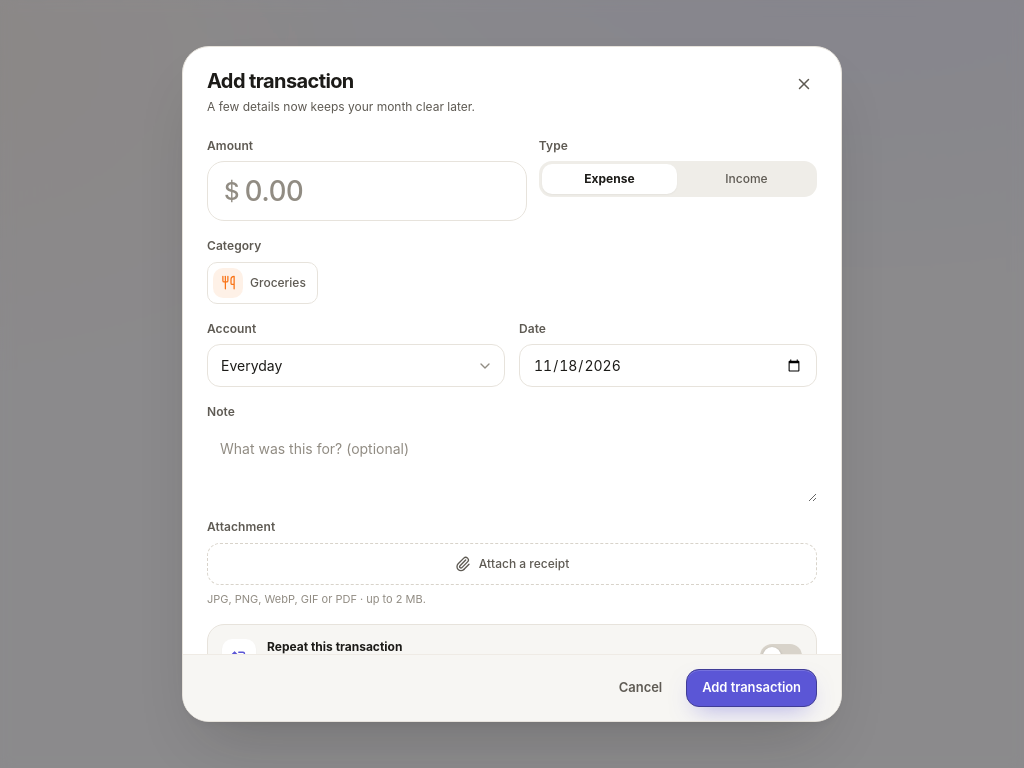
Test: TransactionFormModal › maps server field errors onto the matching inputs
This screenshot has width=1024, height=768.
Type "10" into the field named "Amount in USD" at coordinates (376, 191), box x1=242 y1=162 x2=510 y2=220
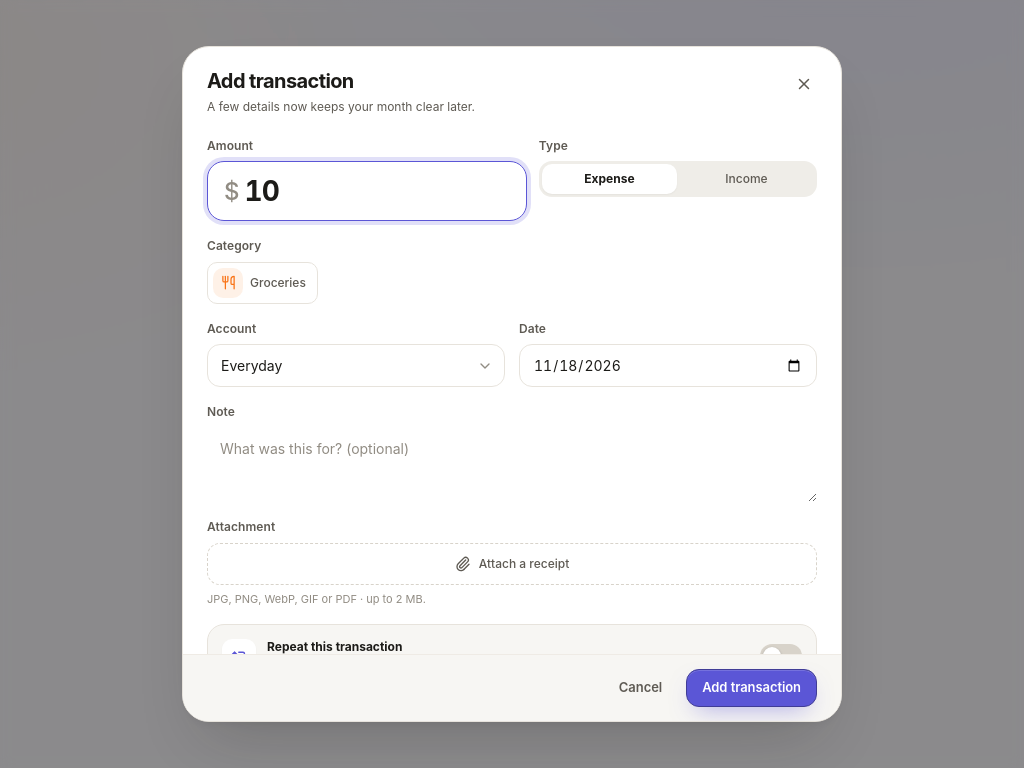
Click the radio button labelled "Groceries" at coordinates (262, 283), box x1=207 y1=262 x2=318 y2=304
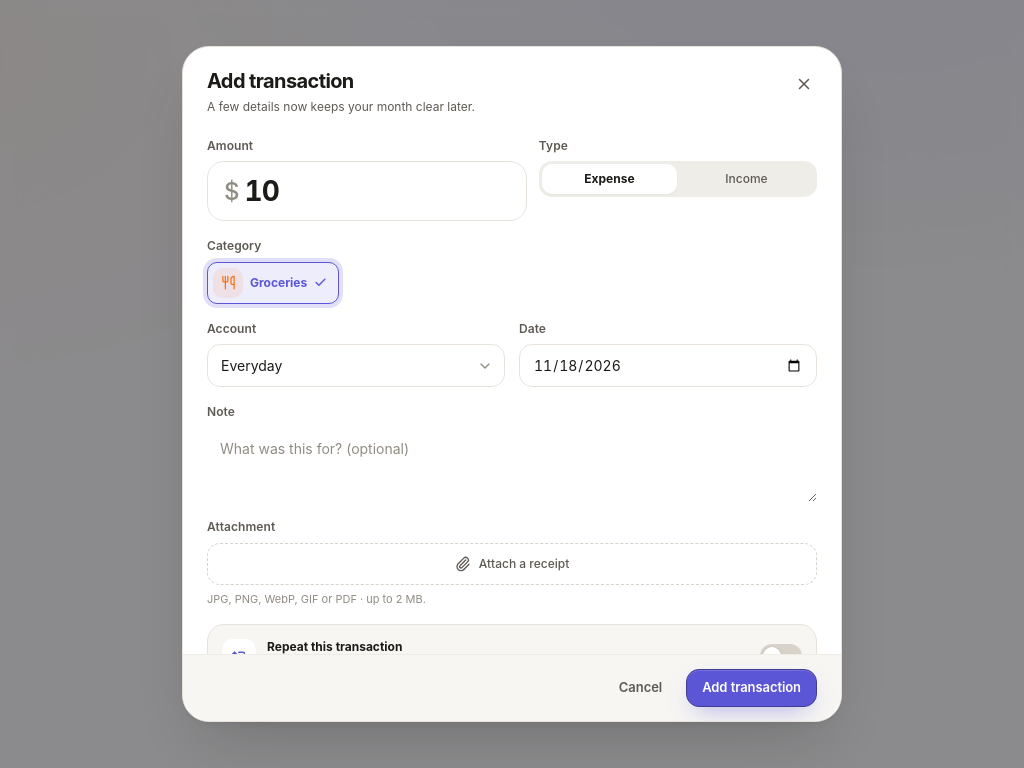
Select "Everyday" in the dropdown labelled "Account" at coordinates (356, 366), box x1=207 y1=344 x2=505 y2=388
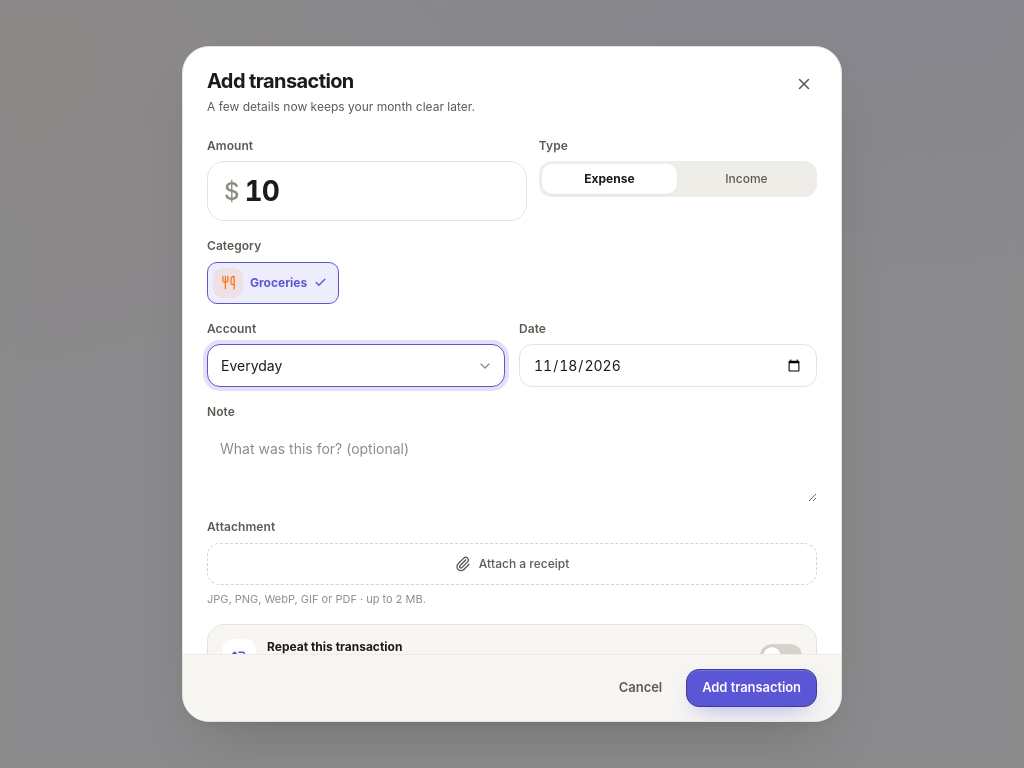
Click the button "Add transaction" at coordinates (752, 688), box x1=686 y1=669 x2=817 y2=707
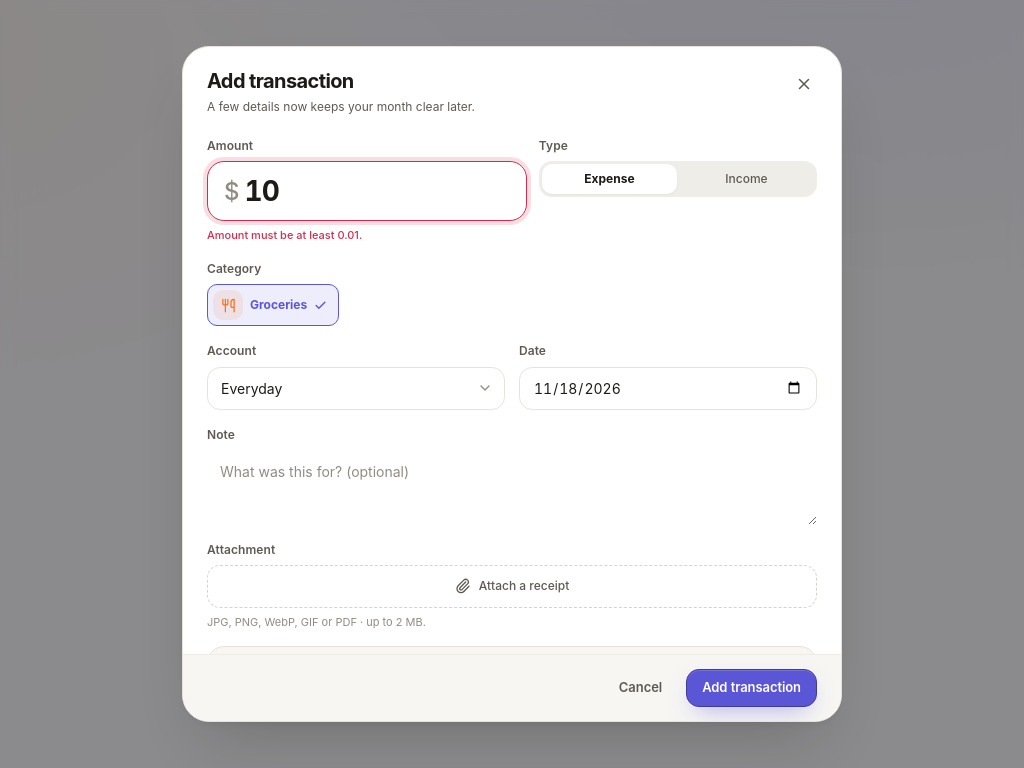
Expected: the text "Amount must be at least 0.01." is shown, x1=207 y1=228 x2=362 y2=242
